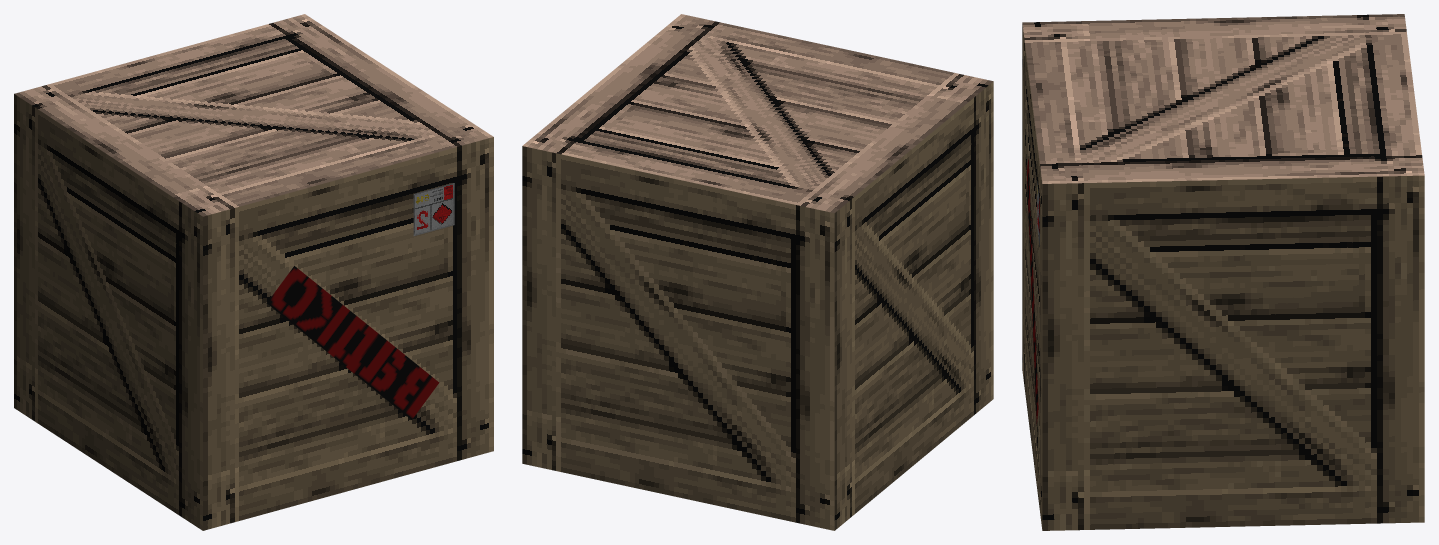
The model's file is primary_108.glb.
3 renders of one model, left to right at view 1: azimuth 30°, elevation 25°; view 2: azimuth 150°, elevation 25°; view 3: azimuth 270°, elevation 25°, orthographic. The views are drawn at different scales.
Visible parts, largest first — view 1: Object; view 2: Object; view 3: Object.
Boxes of the visible parts, x1,y1,x2,y2 form: Object: [14, 14, 493, 530]; Object: [522, 14, 993, 530]; Object: [1022, 14, 1424, 530].
Size of the model in its own units: 0.9984 by 0.9499 by 0.9984.
7 materials, 7 textured.
